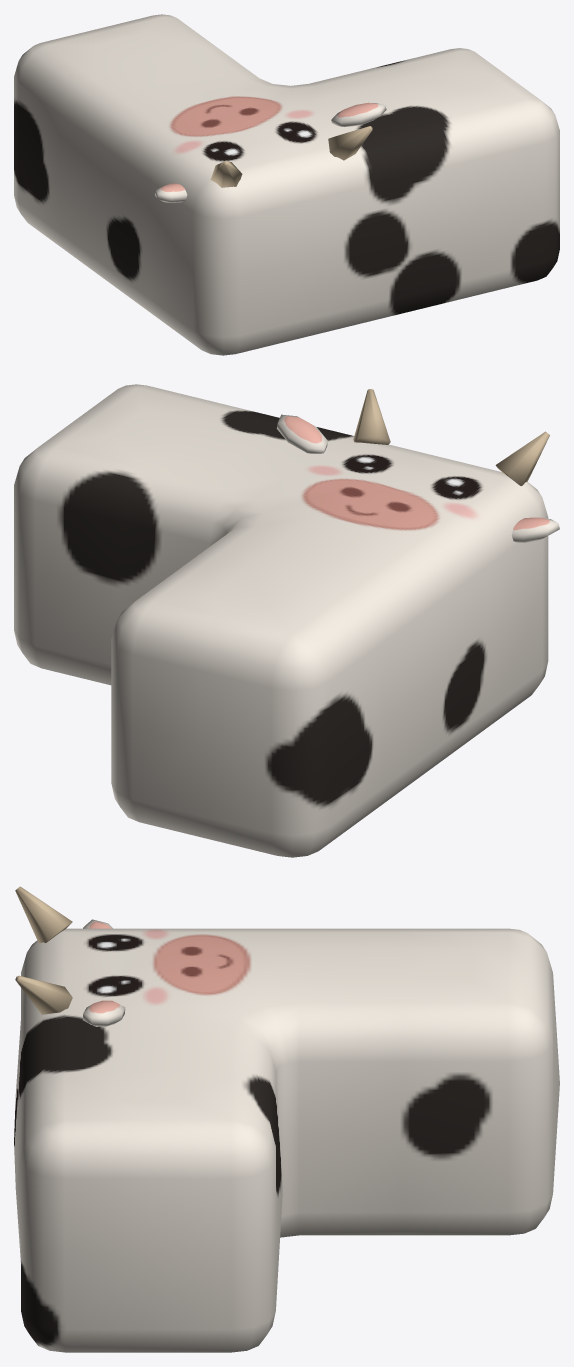
The model's file is Cow_CornerMirror.fbx.
3 views of the same model, one above another, from view 1: azimuth 30°, elevation 25°; view 2: azimuth 150°, elevation 25°; view 3: azimuth 270°, elevation 25° (orthographic). The views are drawn at different scales.
Parts seen in each view (by area): view 1: Cow_CornerMirror; view 2: Cow_CornerMirror; view 3: Cow_CornerMirror.
Boxes of the visible parts, x1,y1,x2,y2 form: Cow_CornerMirror: [14, 14, 559, 355]; Cow_CornerMirror: [14, 384, 559, 857]; Cow_CornerMirror: [14, 886, 559, 1352].
Size of the model in its own units: 2.08 by 1.02 by 1.97.
1 material, 1 textured.
